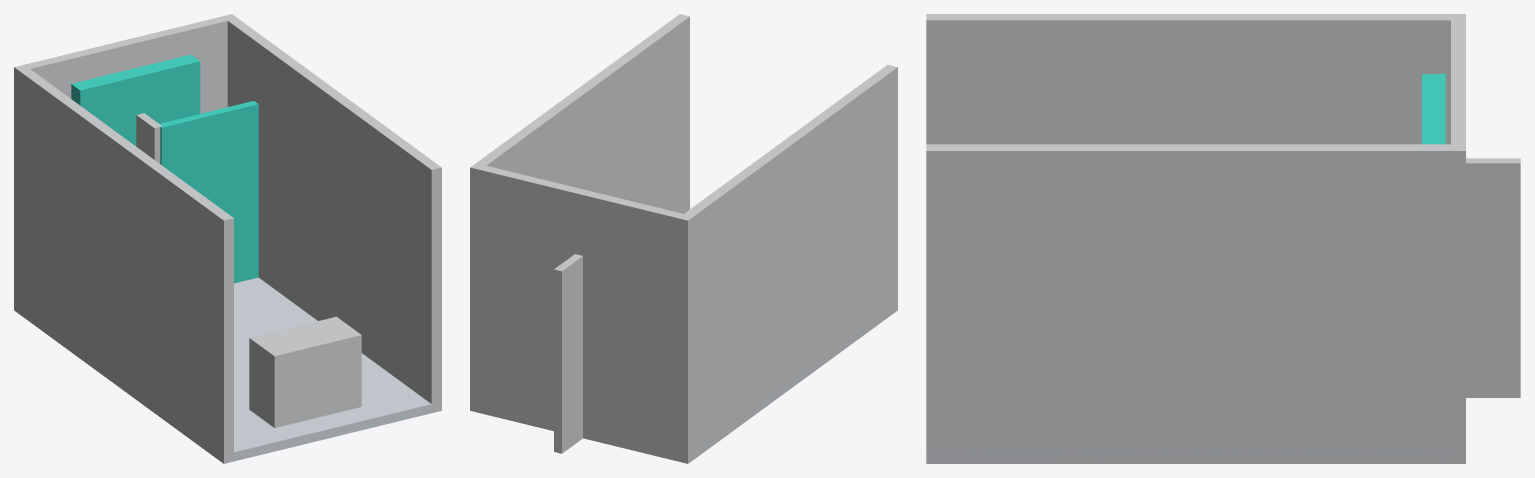
3 views of the same model, side by side, from view 1: azimuth 30°, elevation 25°; view 2: azimuth 150°, elevation 25°; view 3: azimuth 270°, elevation 25° (orthographic). The views are drawn at different scales.
Visible parts, largest first — view 1: Exhibition Booth Concept; view 2: Exhibition Booth Concept; view 3: Exhibition Booth Concept.
Boxes of the visible parts, x1,y1,x2,y2 form: Exhibition Booth Concept: (14,14,441,463); Exhibition Booth Concept: (470,14,897,463); Exhibition Booth Concept: (926,14,1520,463).
Bounding box in the file's own units: 3 × 3.2 × 5.51.
